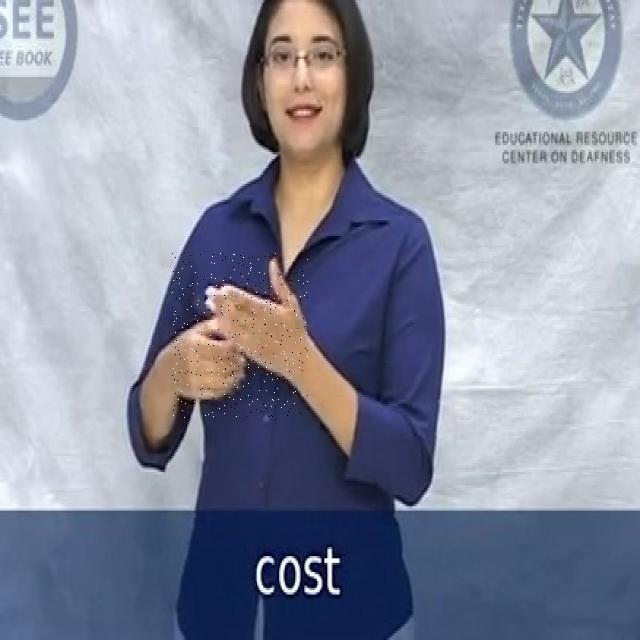cost: (172, 253, 308, 418)
